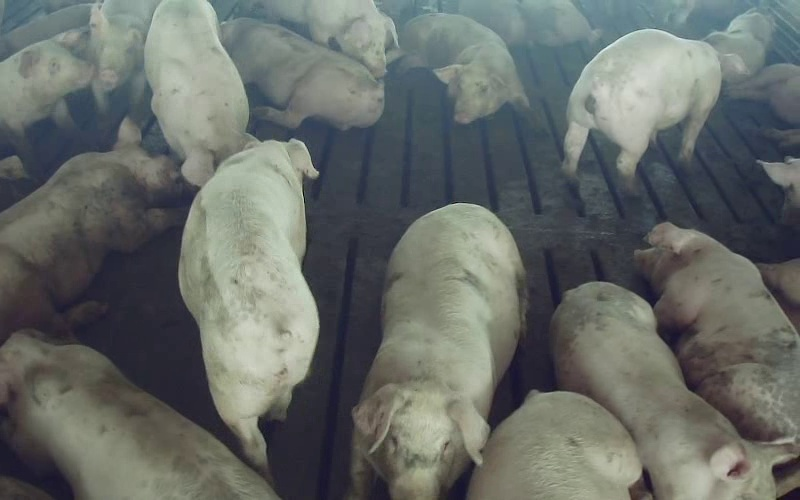pig: (551, 282, 799, 499), (349, 204, 524, 499), (179, 139, 318, 475), (0, 119, 194, 342), (634, 223, 799, 441), (562, 30, 747, 192), (144, 0, 252, 185), (468, 390, 651, 499), (221, 18, 383, 129), (400, 13, 528, 123), (0, 29, 93, 160), (262, 0, 397, 77), (89, 0, 159, 122)
